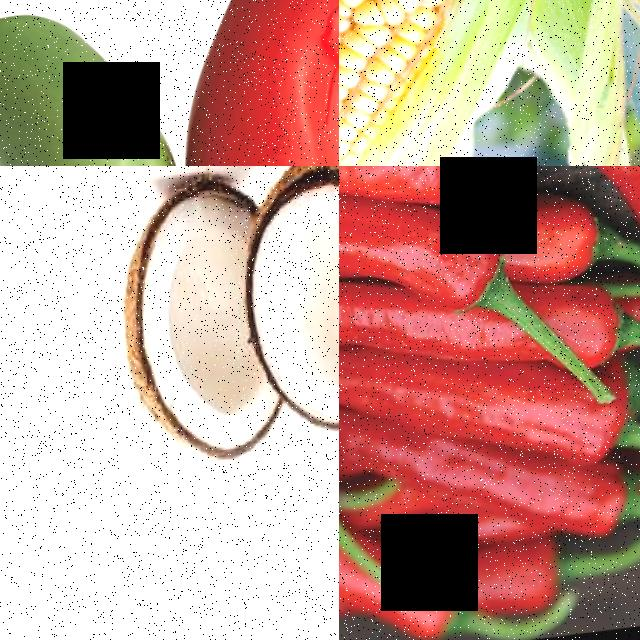chilli: (380, 348, 640, 487), (0, 4, 190, 166), (339, 167, 504, 349), (162, 0, 339, 166)
coconut: (107, 174, 269, 475), (246, 166, 339, 443)
corn: (339, 0, 577, 166)
